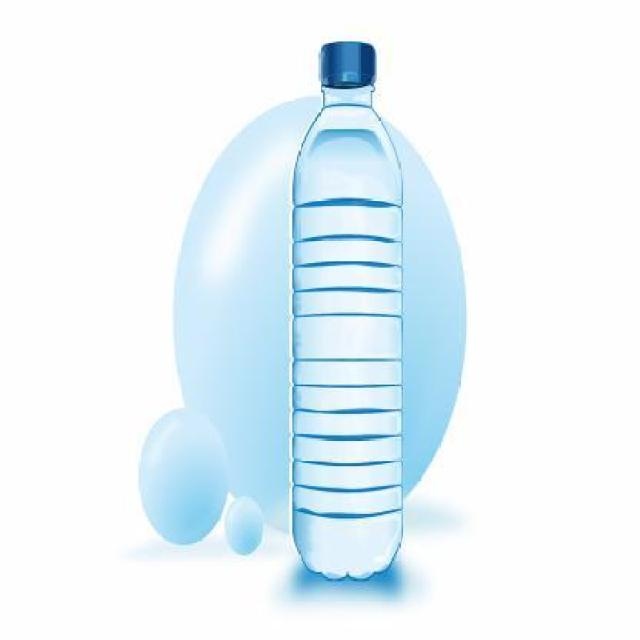bottle: (293, 31, 412, 602)
